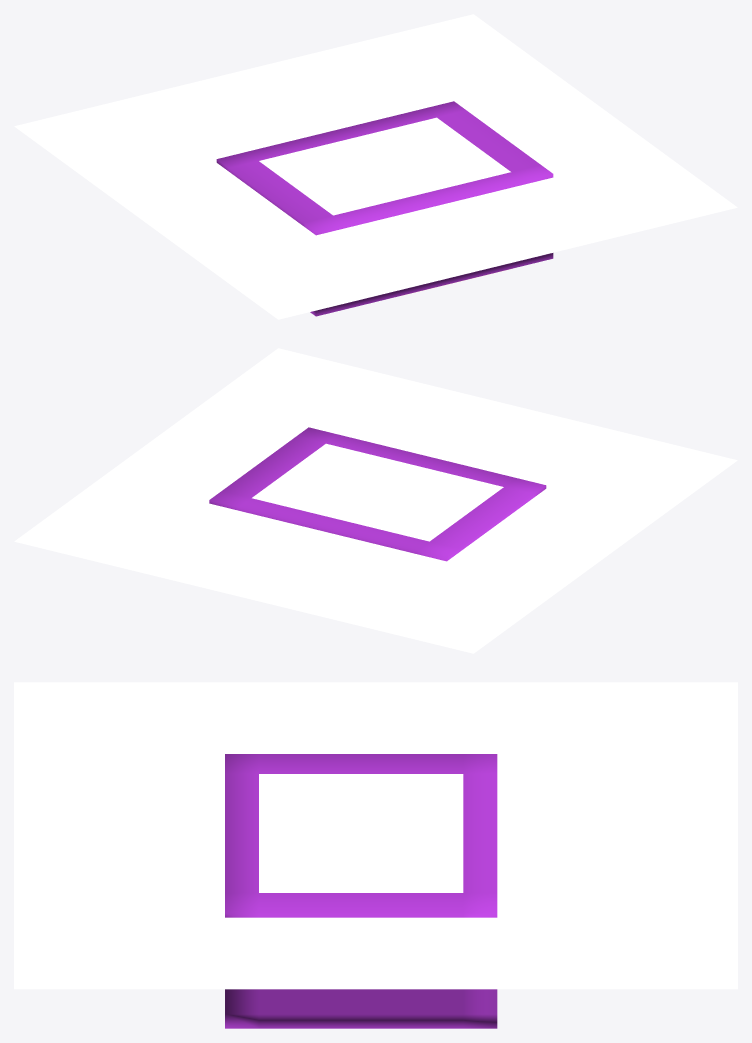
Rendered from gol_v3_2.glb.
3 renders of one model, top to bottom at view 1: azimuth 30°, elevation 25°; view 2: azimuth 150°, elevation 25°; view 3: azimuth 270°, elevation 25°, orthographic. The views are drawn at different scales.
Parts seen in each view (by area): view 1: Plane.001, Cube.020; view 2: Plane.001, Cube.020; view 3: Plane.001, Cube.020.
Boxes of the visible parts, box(x1,y1,x2,y2) form: Plane.001: box(14, 14, 737, 319); Cube.020: box(216, 101, 553, 316); Plane.001: box(14, 348, 737, 653); Cube.020: box(209, 427, 546, 561); Plane.001: box(14, 682, 737, 989); Cube.020: box(225, 754, 497, 1028).
Size of the model in its own units: 30.71 by 6.29 by 30.58.
